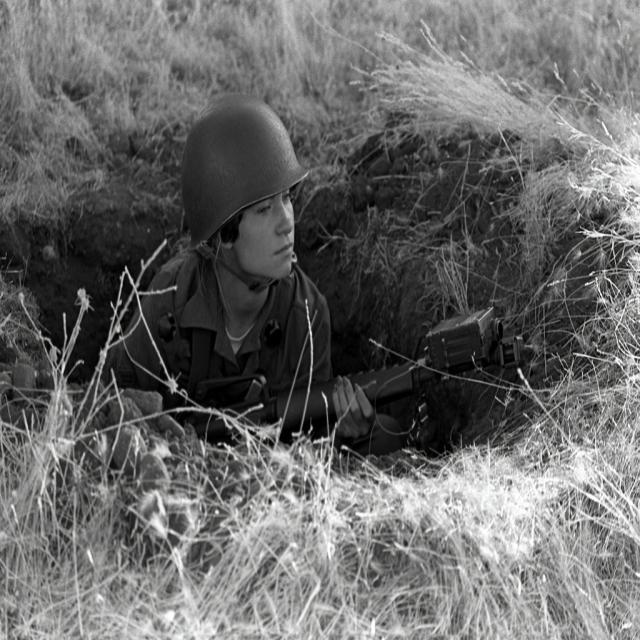Weapon: (212, 284, 574, 458)
